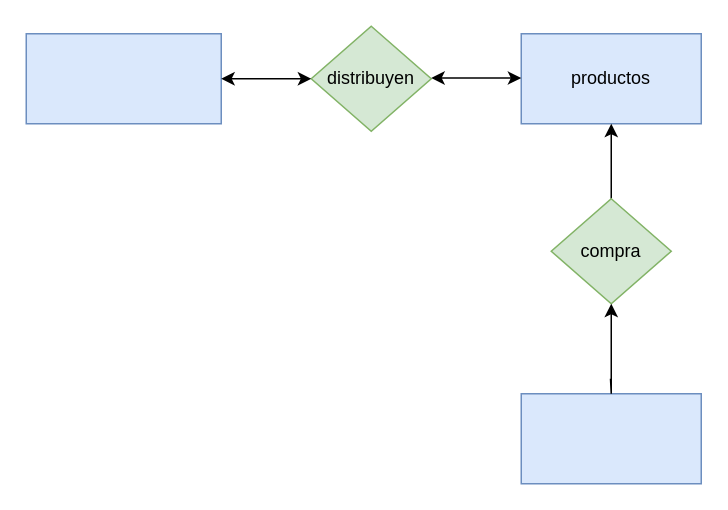
Some shapes in this 728 by 510 pixel diagram are drawn without their labels. The centre of each missing label's shape, as x and y in pixels:
clientes: [610,438]
proveedores: [123,78]
